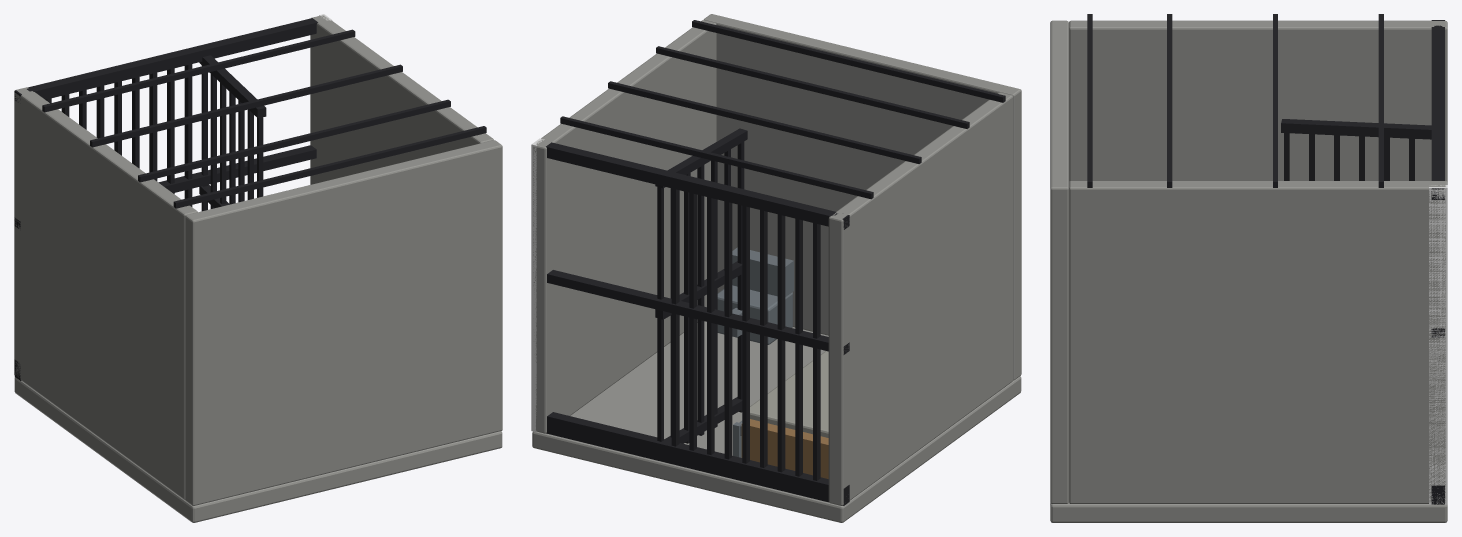
Rendered from holding_cell.glb.
The picture shows the model from 3 angles, left to right: view 1: azimuth 30°, elevation 25°; view 2: azimuth 150°, elevation 25°; view 3: azimuth 270°, elevation 25°; orthographic projection. The views are drawn at different scales.
Visible parts, largest first — view 1: holding_cell; view 2: holding_cell, holding_cell_cell_bars-convcolonly.001; view 3: holding_cell, holding_cell_cell_bars-convcolonly.001.
Part boxes in pixels (bbox=[...]): holding_cell: bbox=[14, 15, 502, 522]; holding_cell: bbox=[532, 14, 1021, 522]; holding_cell_cell_bars-convcolonly.001: bbox=[531, 138, 544, 432]; holding_cell: bbox=[1050, 14, 1447, 522]; holding_cell_cell_bars-convcolonly.001: bbox=[1429, 185, 1447, 504].
Size of what is drawn, in the model's own units: 3 by 2.85 by 3.
Materials: 2 (2 with a texture image).
